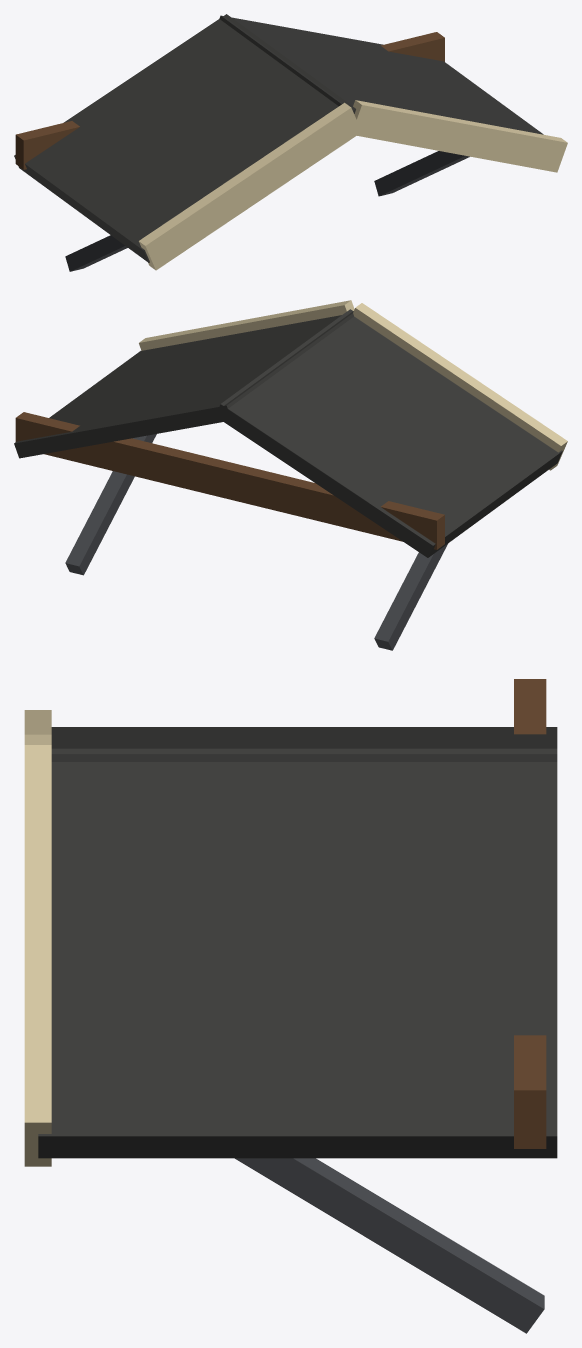
File: SM_Bld_Door_Canopy_01.glb
3 views of the same model, one above another, from view 1: azimuth 30°, elevation 25°; view 2: azimuth 150°, elevation 25°; view 3: azimuth 270°, elevation 25° (orthographic). The views are drawn at different scales.
Parts seen in each view (by area): view 1: SM_Bld_Door_Canopy_01; view 2: SM_Bld_Door_Canopy_01; view 3: SM_Bld_Door_Canopy_01.
Boxes of the visible parts, box(x1,y1,x2,y2) form: SM_Bld_Door_Canopy_01: box(14, 14, 567, 271); SM_Bld_Door_Canopy_01: box(14, 300, 567, 650); SM_Bld_Door_Canopy_01: box(24, 679, 557, 1333).
Size of the model in its own units: 1.81 by 0.8905 by 0.985.
1 material, 1 textured.
